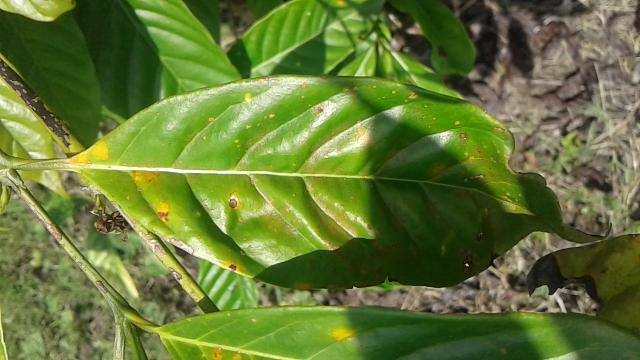rust_level_1: (60, 70, 614, 294)
